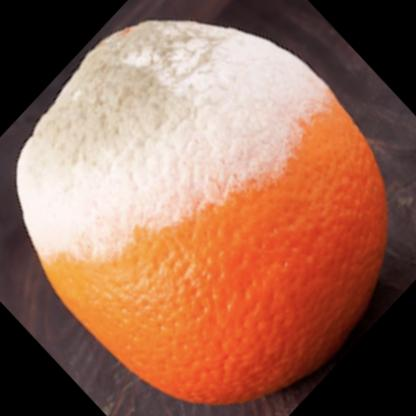rotten: (19, 20, 387, 406)
